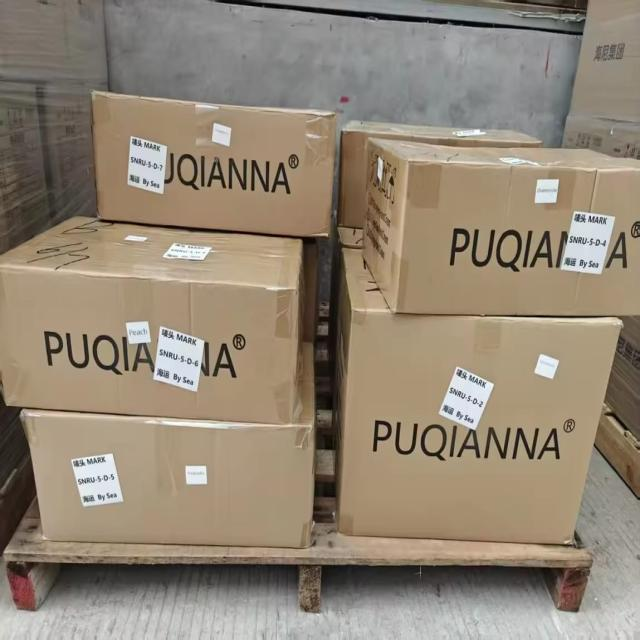carton_box: (327, 198, 629, 559), (0, 201, 319, 434), (9, 352, 328, 567), (356, 126, 640, 326), (84, 72, 340, 249)
export_mark_label: (145, 306, 223, 409), (64, 442, 141, 534), (430, 357, 510, 440), (116, 126, 181, 202), (562, 204, 614, 284)
